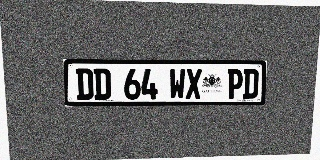4: (141, 69, 158, 99)
6: (124, 68, 141, 100)
D: (76, 68, 94, 100), (93, 68, 111, 100), (242, 69, 259, 99)
P: (227, 69, 243, 99)
W: (169, 69, 185, 99)
X: (186, 69, 202, 99)
